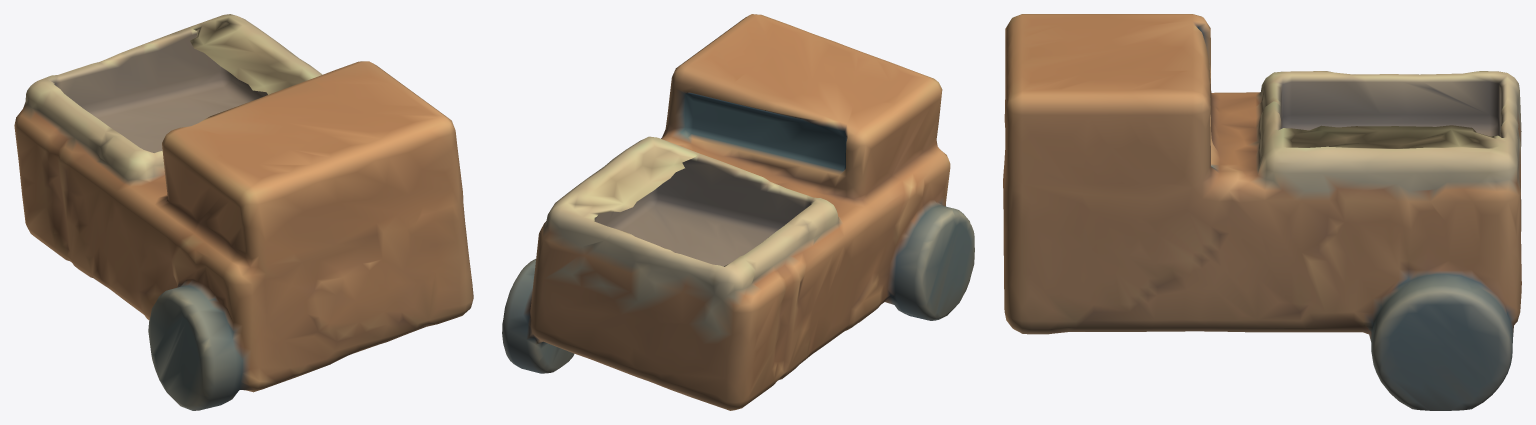
The model's file is env_p_wreck.glb.
3 renders of one model, left to right at view 1: azimuth 30°, elevation 25°; view 2: azimuth 150°, elevation 25°; view 3: azimuth 270°, elevation 25°, orthographic. The views are drawn at different scales.
Parts seen in each view (by area): view 1: geometry_0; view 2: geometry_0; view 3: geometry_0.
Part boxes in pixels (<box>): geometry_0: <box>14,14,473,410</box>; geometry_0: <box>502,14,974,410</box>; geometry_0: <box>1003,14,1521,410</box>.
Size of the model in its own units: 3.05 by 2.45 by 4.04.
